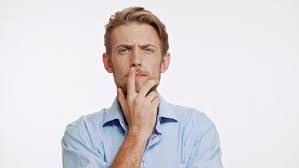white_male: (110, 22, 156, 90)
